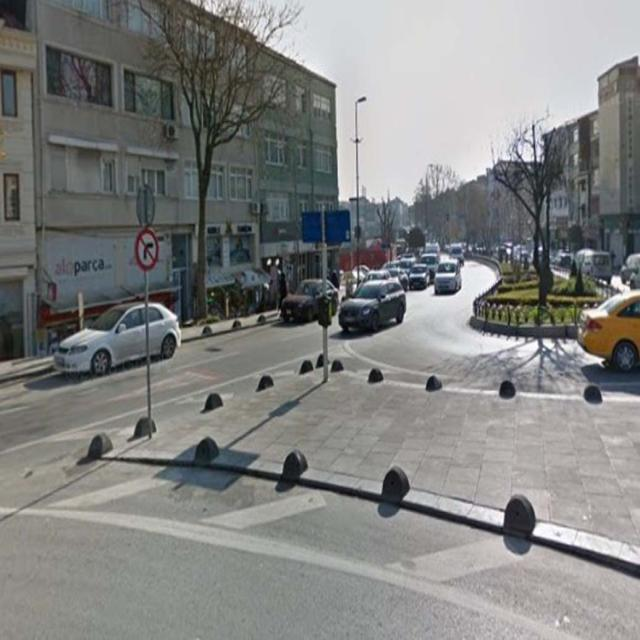sagadonulmez: (135, 229, 160, 271)
